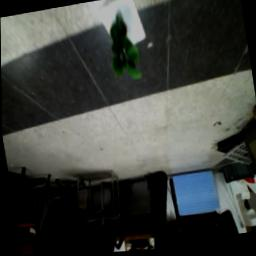herb: (103, 9, 144, 88)
